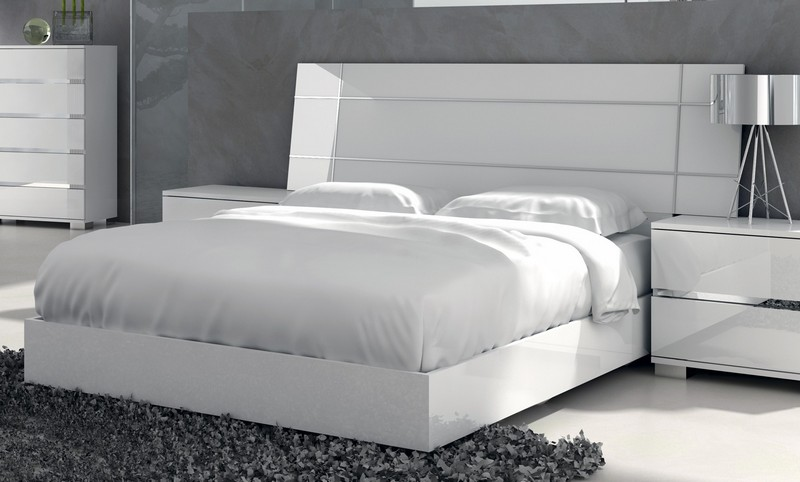bed: (24, 60, 744, 449)
lamp: (709, 71, 800, 226)
stool: (648, 212, 800, 393)
